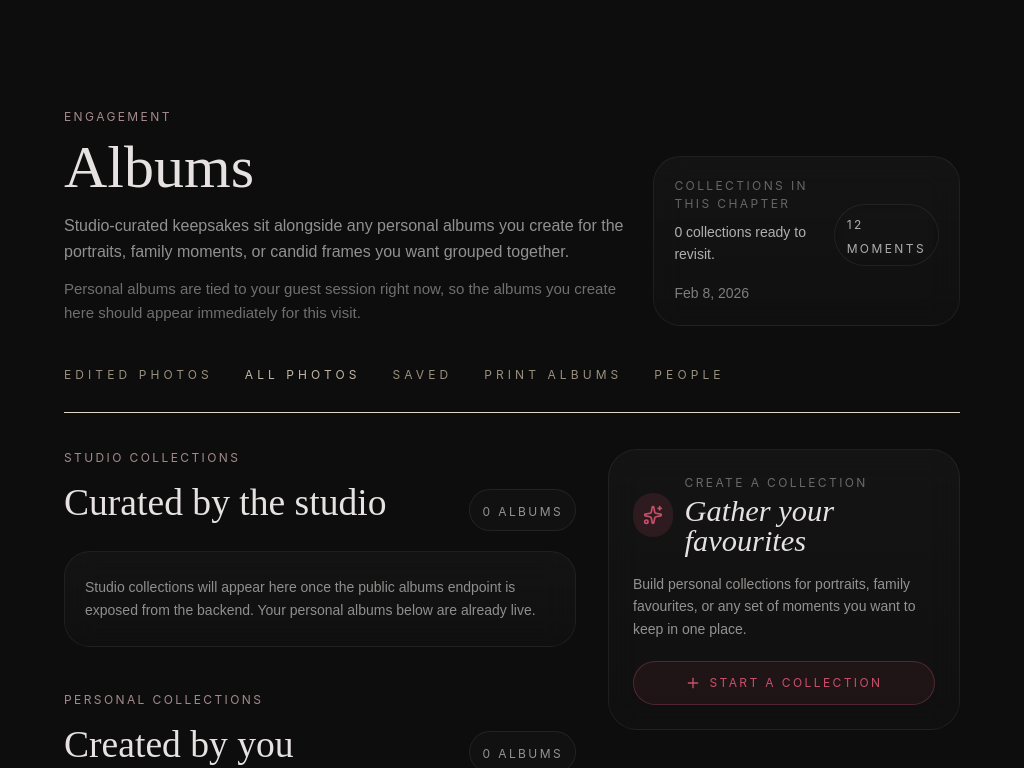
Scenario: EventAlbums › creates a new album and shows it immediately
Expected: the text "Engagement" is shown, [64,109,172,124]
Click the button "Start a Collection" at [784, 683], box [633,661,935,705]
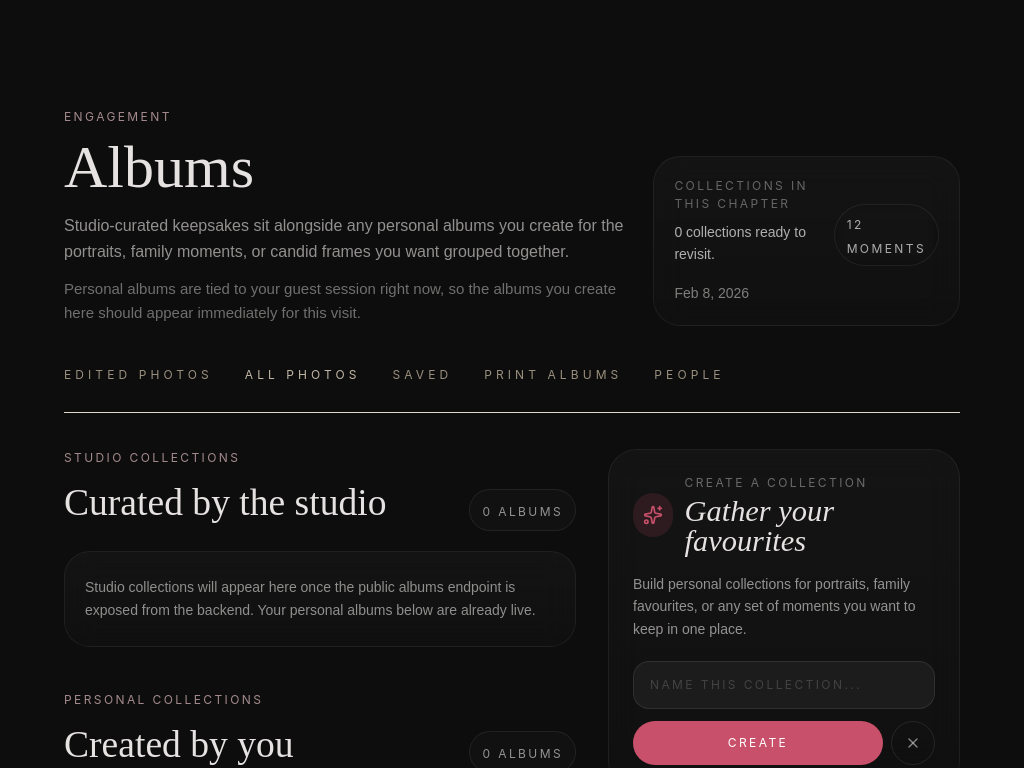
Type "Cousins" into the field with placeholder "Name this collection..." at [784, 685], box [633,661,935,709]
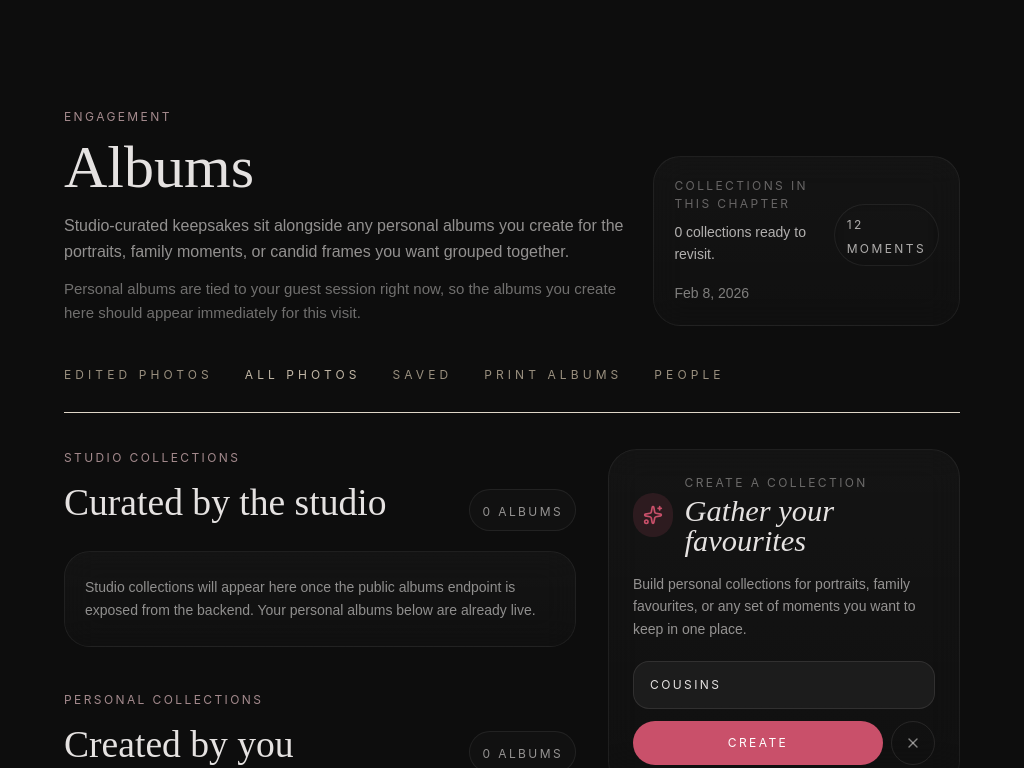
Click the button "Create" at [758, 743], box [633,721,883,765]
(page scrolled)
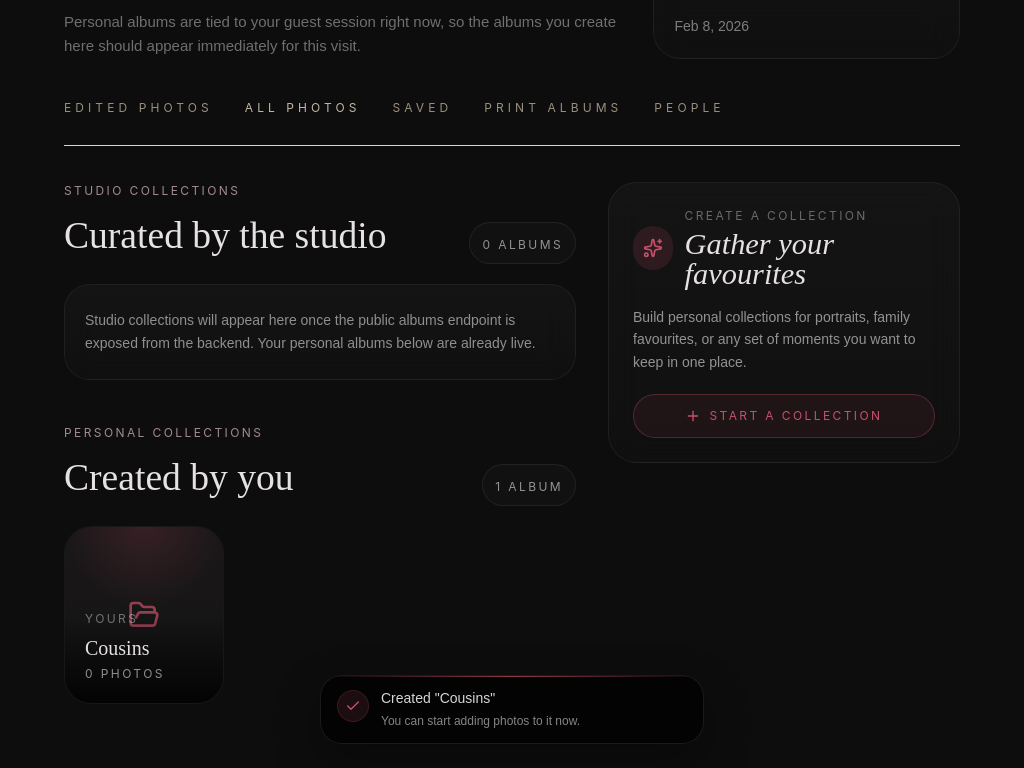
Expected: the text "Cousins" is shown, [85,637,150,659]
